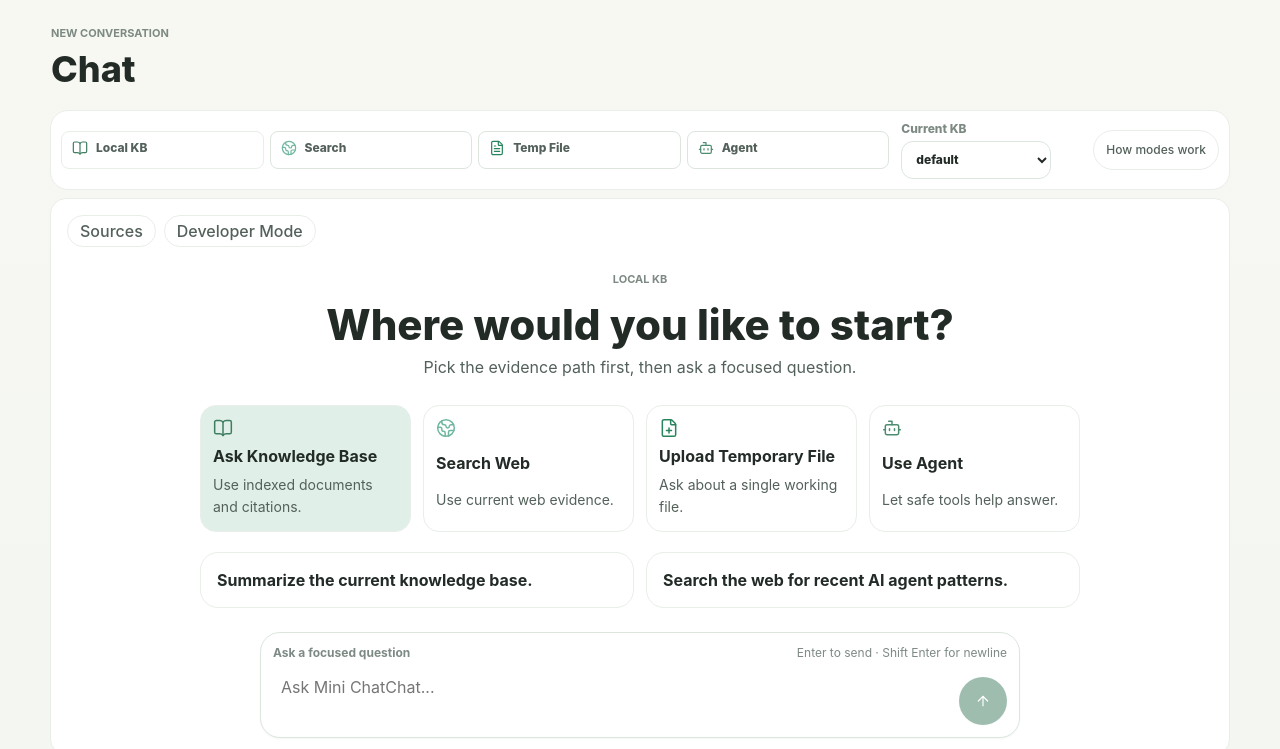
Scenario: chat mode payloads › keeps the Agent mode and route in sync
Click the button with test id "chat-mode-agent" at (788, 150), box left=687, top=131, right=889, bottom=169
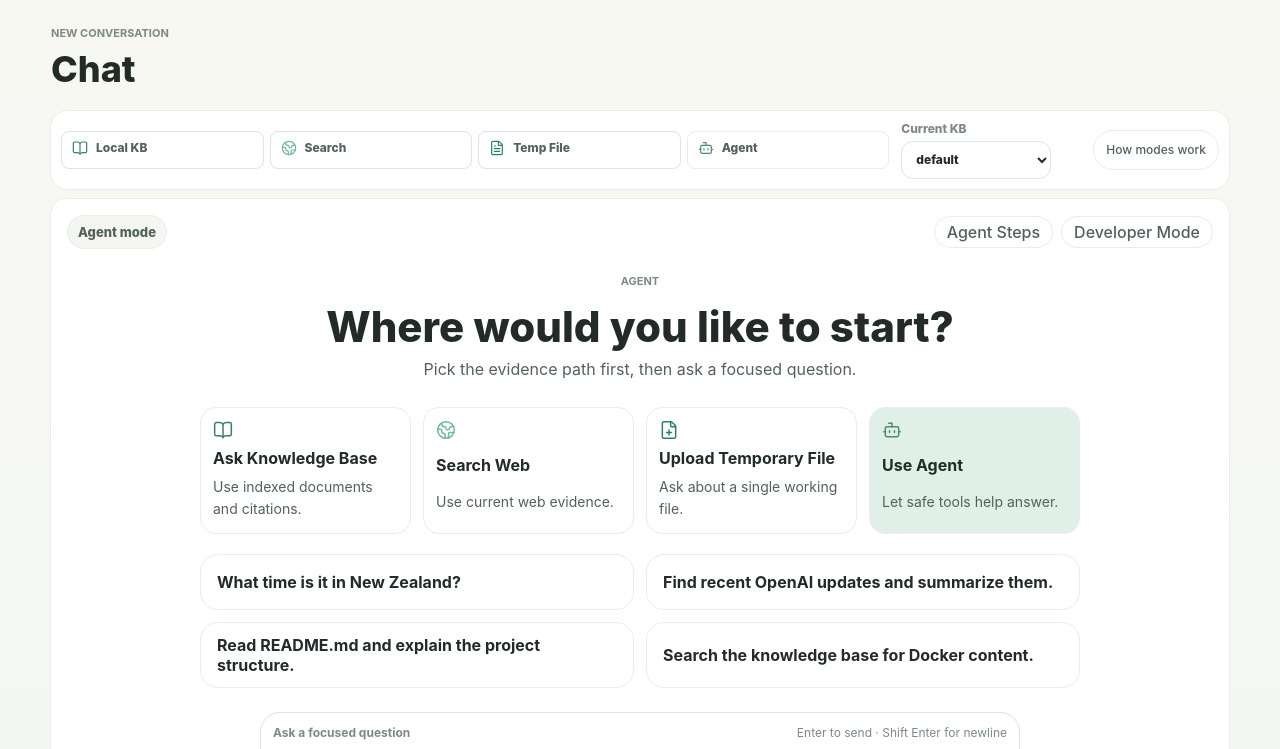
Now the text "Agent mode" is shown, box left=67, top=215, right=167, bottom=249
Click the button with test id "chat-mode-local-kb" at (162, 150), box left=61, top=131, right=264, bottom=169
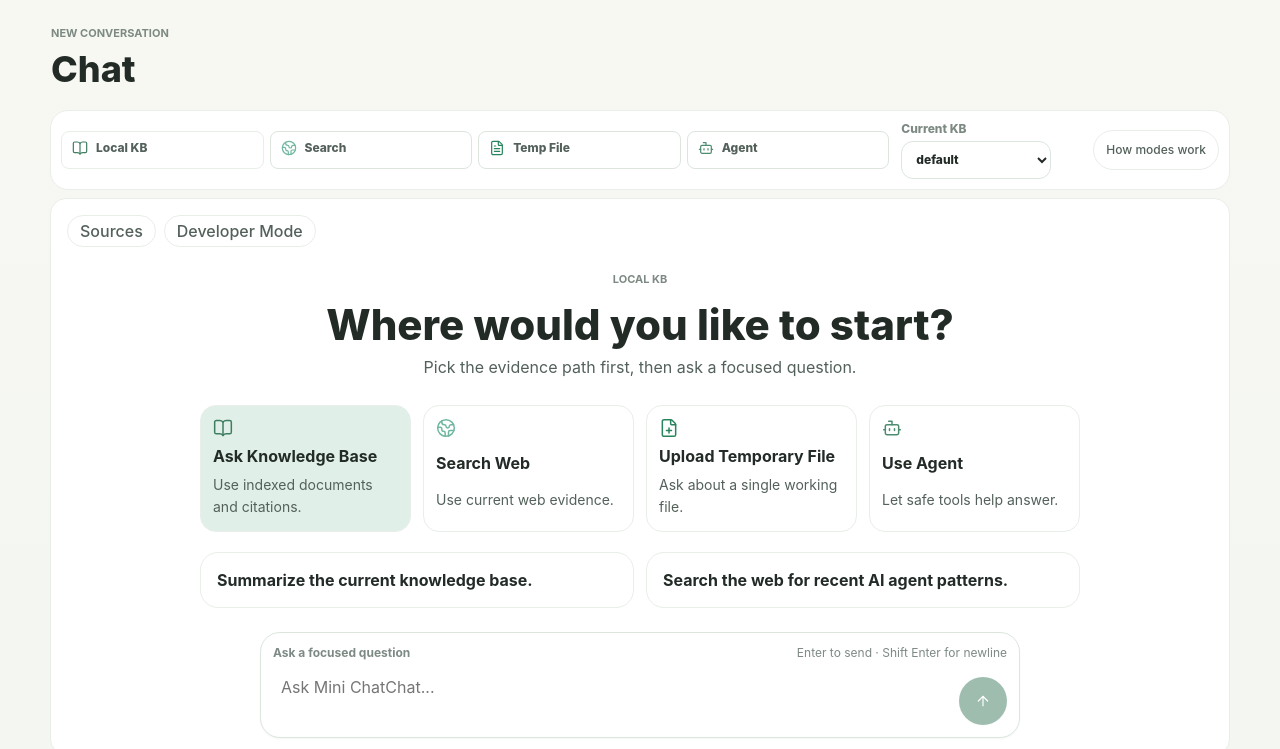
Now the text with test id "agent-mode-status" is gone
